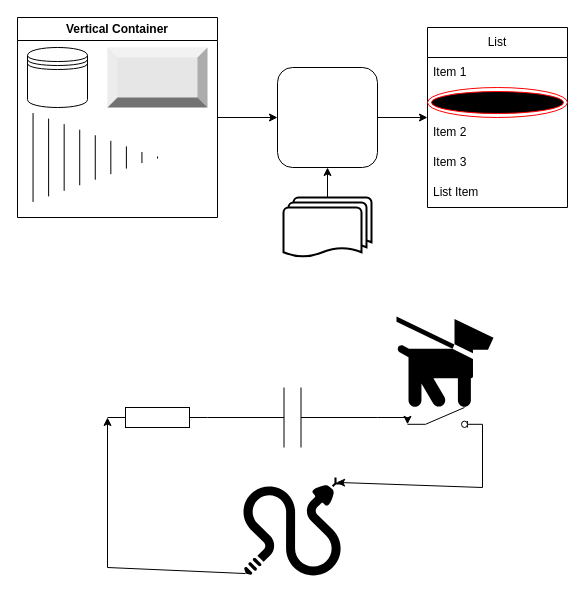
The diagram is 585 pixels wide and 600 high, and some of its shapes have lost their labels. Here are the shapes that lost their labels. From the top down, the centre of each, then its label:
At [157,77]: "Button".
At [327,117]: "test".
